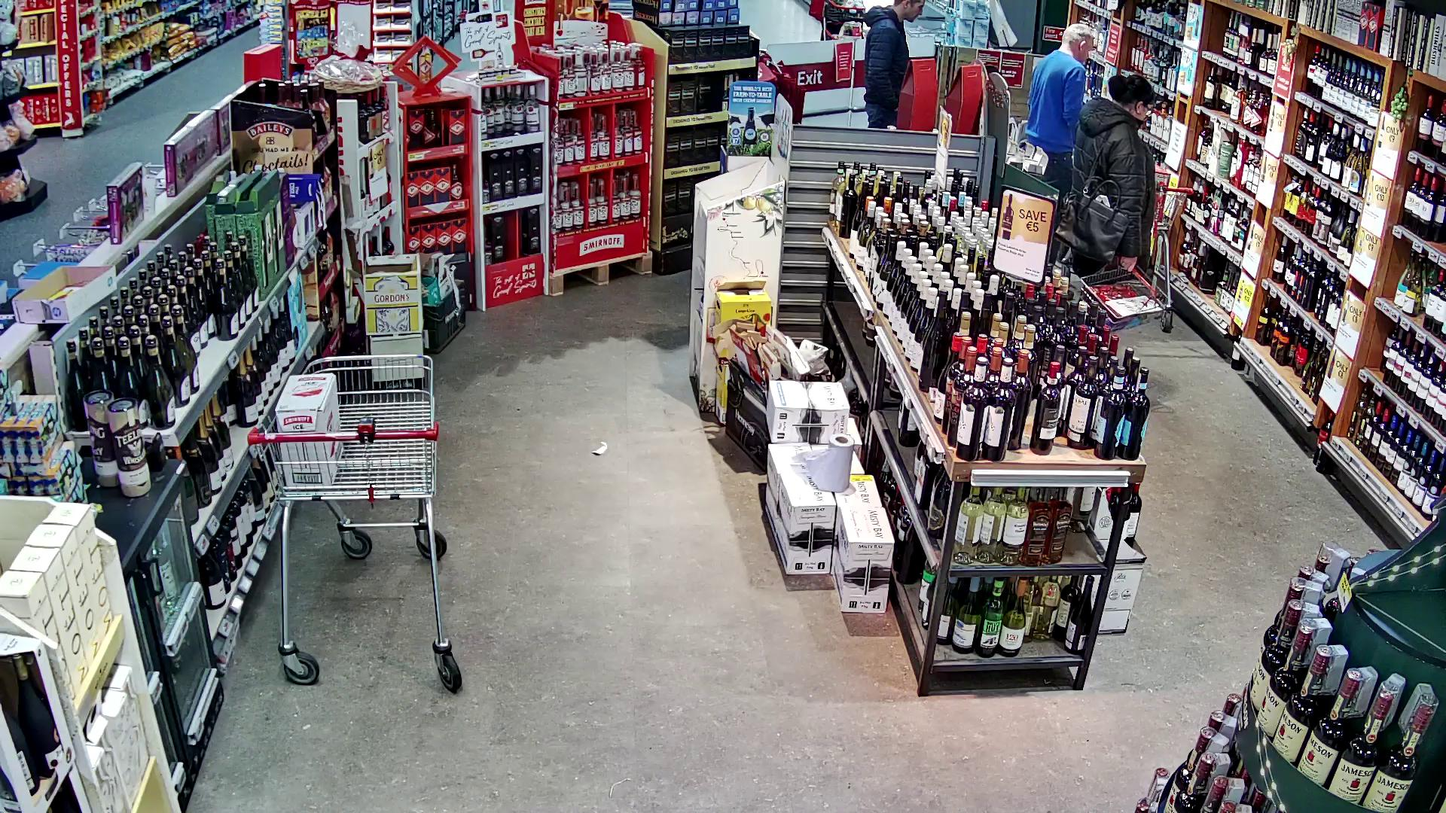backpack-or-handbag: (1053, 177, 1128, 266)
filled-basket: (1079, 262, 1174, 329)
person: (1072, 74, 1156, 278)
person-with-basket-trolly-and-backpack-handbag: (1054, 74, 1174, 327)
